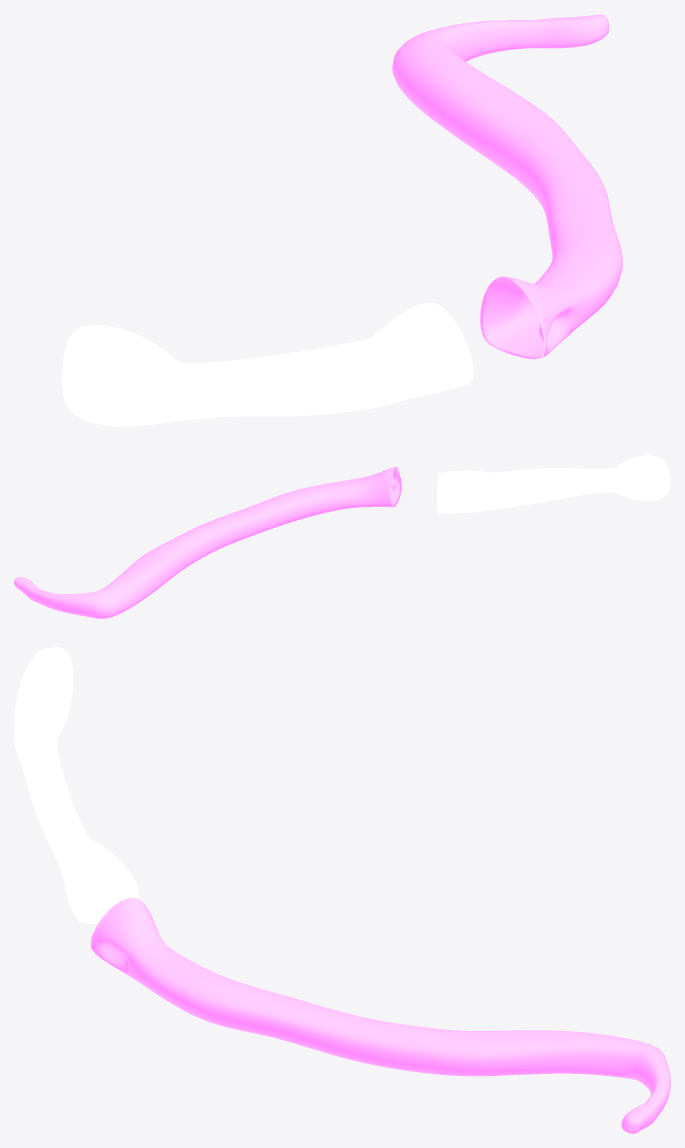
File: cs8travels.fbx
The picture shows the model from 3 angles, top to bottom: view 1: azimuth 30°, elevation 25°; view 2: azimuth 150°, elevation 25°; view 3: azimuth 270°, elevation 25°; orthographic projection. The views are drawn at different scales.
Visible parts, largest first — view 1: Primitive streak, Notochordal process; view 2: Primitive streak, Notochordal process; view 3: Primitive streak, Notochordal process.
Boxes of the visible parts, bbox=[...] form: Primitive streak: bbox=[392, 14, 622, 359]; Notochordal process: bbox=[62, 302, 473, 426]; Primitive streak: bbox=[14, 466, 401, 618]; Notochordal process: bbox=[437, 455, 670, 513]; Primitive streak: bbox=[90, 898, 670, 1133]; Notochordal process: bbox=[14, 647, 138, 923].
Size of the model in its own units: 1198 by 262 by 966.
